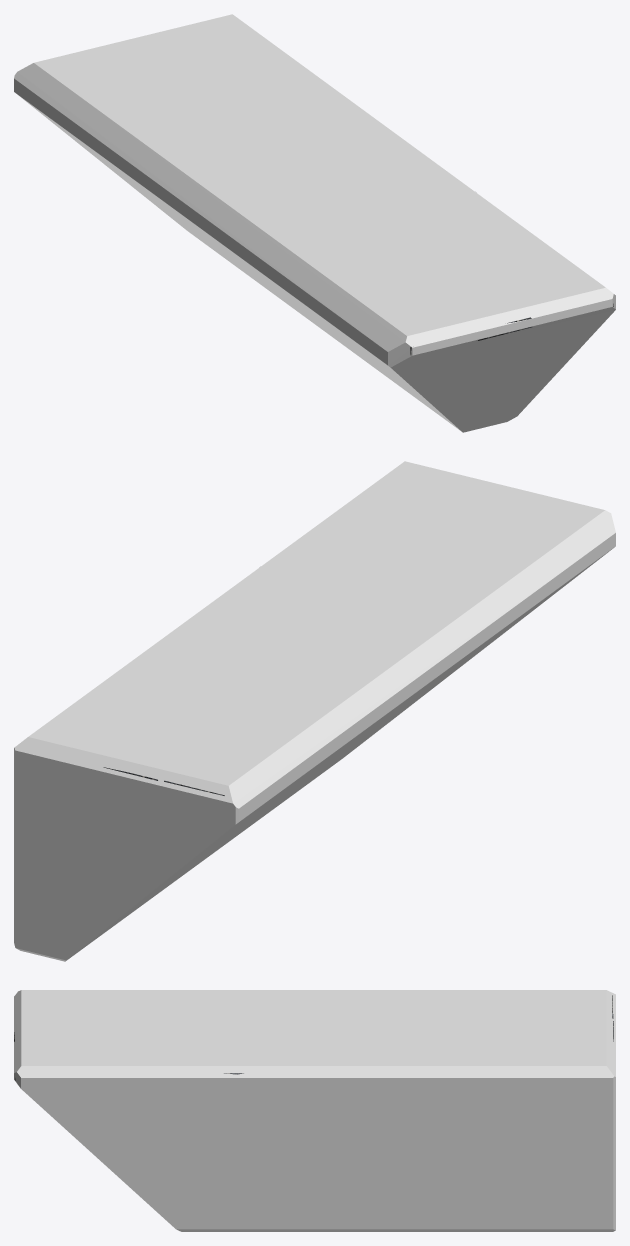
The model's file is SM_wood_balkony_01.fbx.
The picture shows the model from 3 angles, top to bottom: view 1: azimuth 30°, elevation 25°; view 2: azimuth 150°, elevation 25°; view 3: azimuth 270°, elevation 25°; orthographic projection. The views are drawn at different scales.
Visible parts, largest first — view 1: SM_wood_balkony_01_ConvexHulls; view 2: SM_wood_balkony_01_ConvexHulls; view 3: SM_wood_balkony_01_ConvexHulls.
Boxes of the visible parts, box(x1,y1,x2,y2) form: SM_wood_balkony_01_ConvexHulls: box(14, 14, 615, 432); SM_wood_balkony_01_ConvexHulls: box(14, 461, 615, 961); SM_wood_balkony_01_ConvexHulls: box(14, 990, 615, 1231).
Size of the model in its own units: 135 by 400 by 121.
